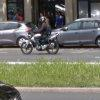Motorcycle: (12, 30, 67, 58)
